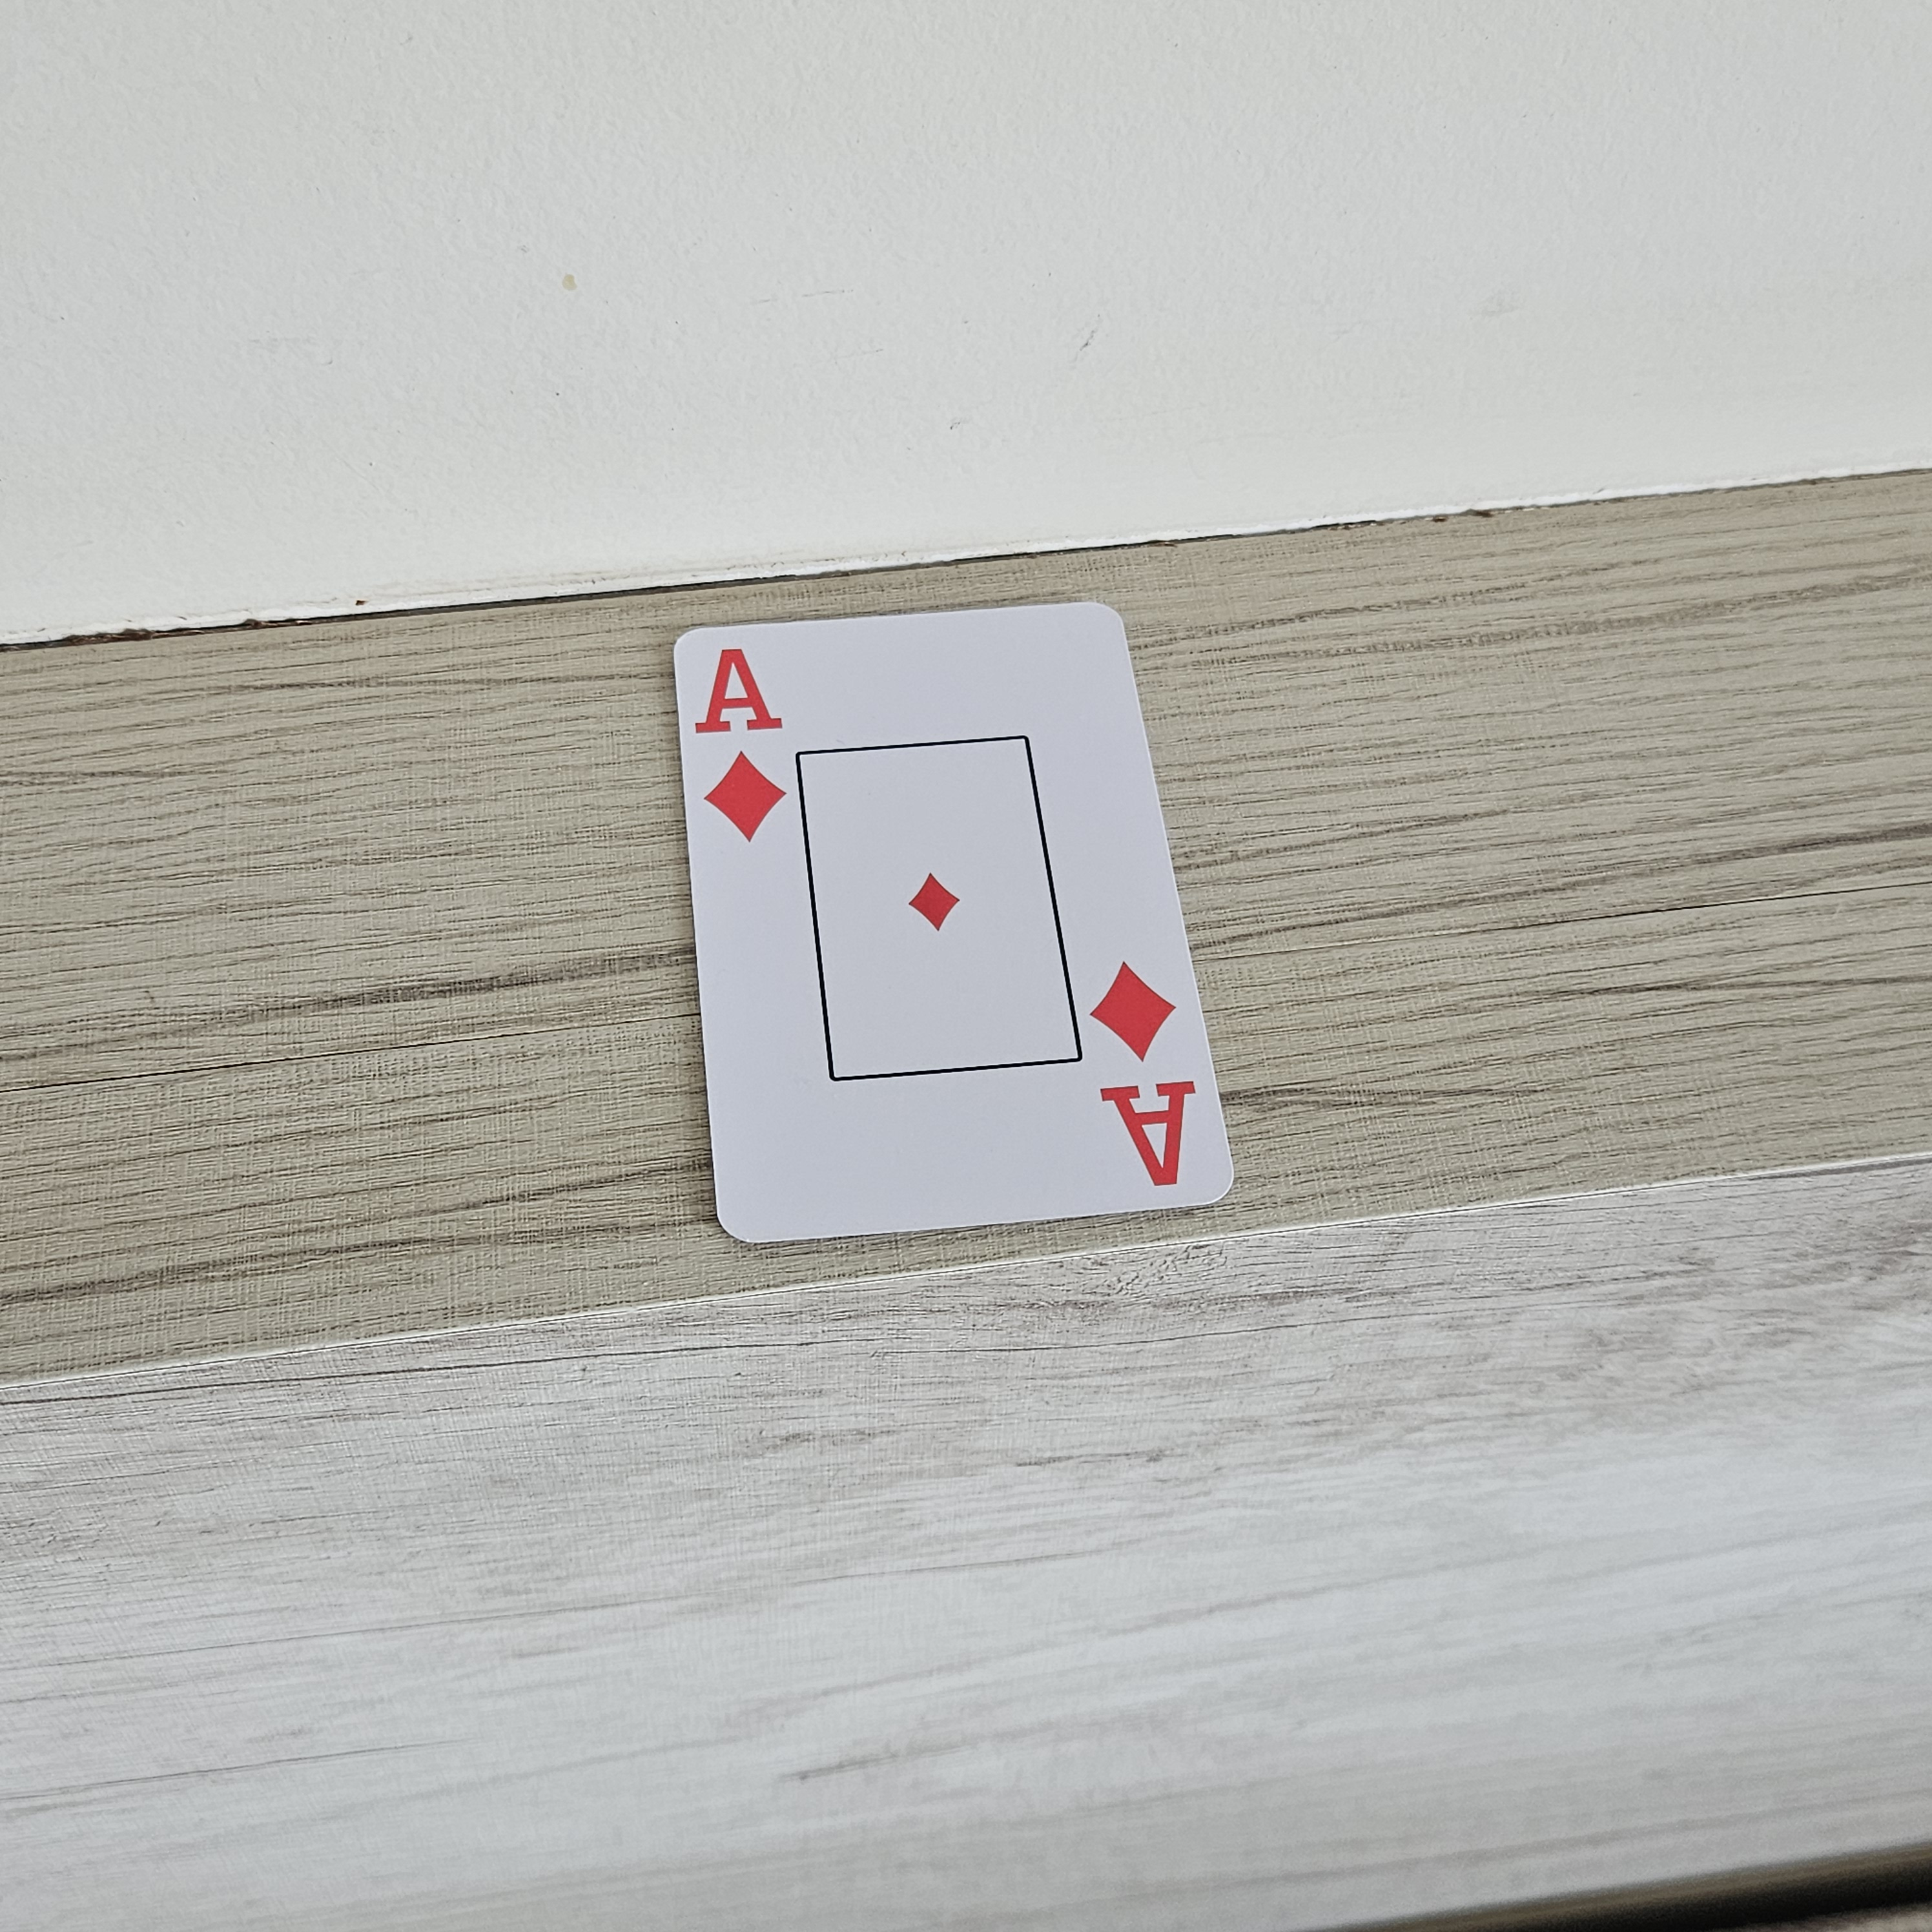AO: (1070, 948, 1212, 1198), (685, 639, 803, 853)
